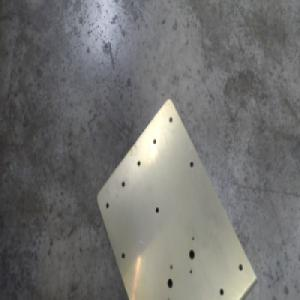MetalSheet: (94, 93, 259, 300)
